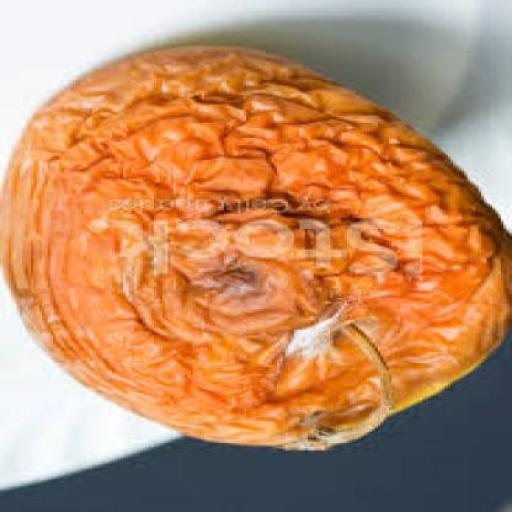biodegradable: (2, 48, 511, 458)
